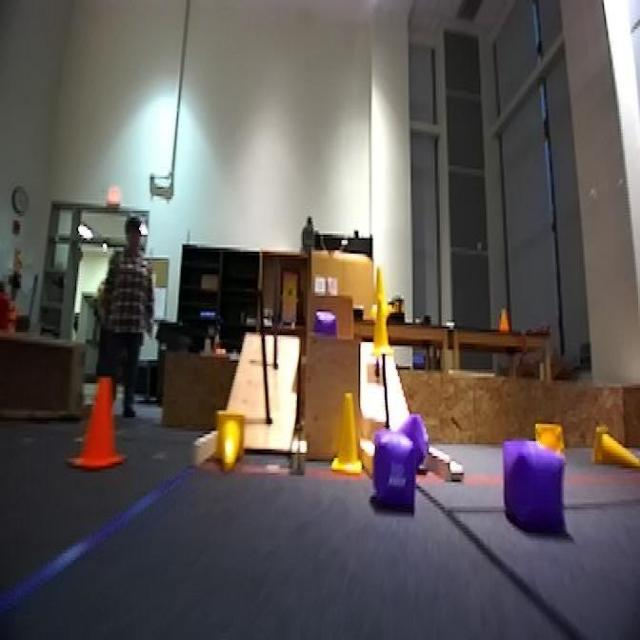frc_cone: (332, 386, 364, 476), (214, 410, 244, 473), (530, 417, 564, 470), (593, 429, 637, 468), (369, 304, 395, 362), (374, 260, 389, 315)
frc_cube: (500, 439, 572, 535), (372, 429, 414, 511), (391, 417, 426, 466), (312, 315, 338, 340)
